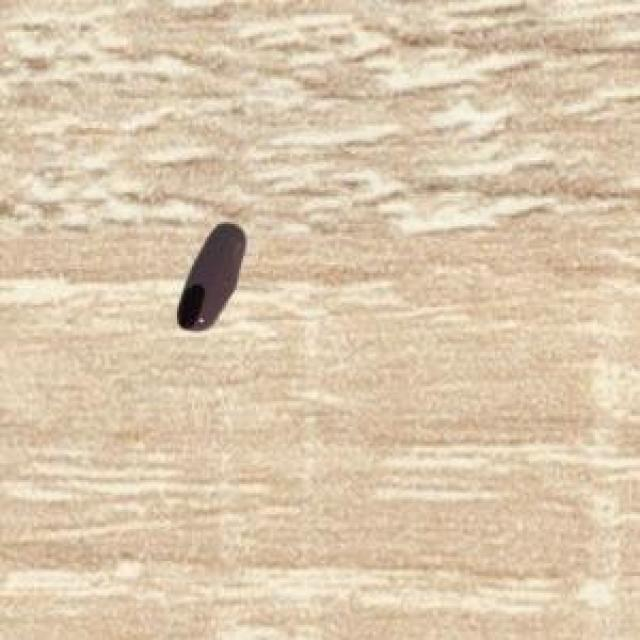DayZinc: (163, 214, 260, 338)
